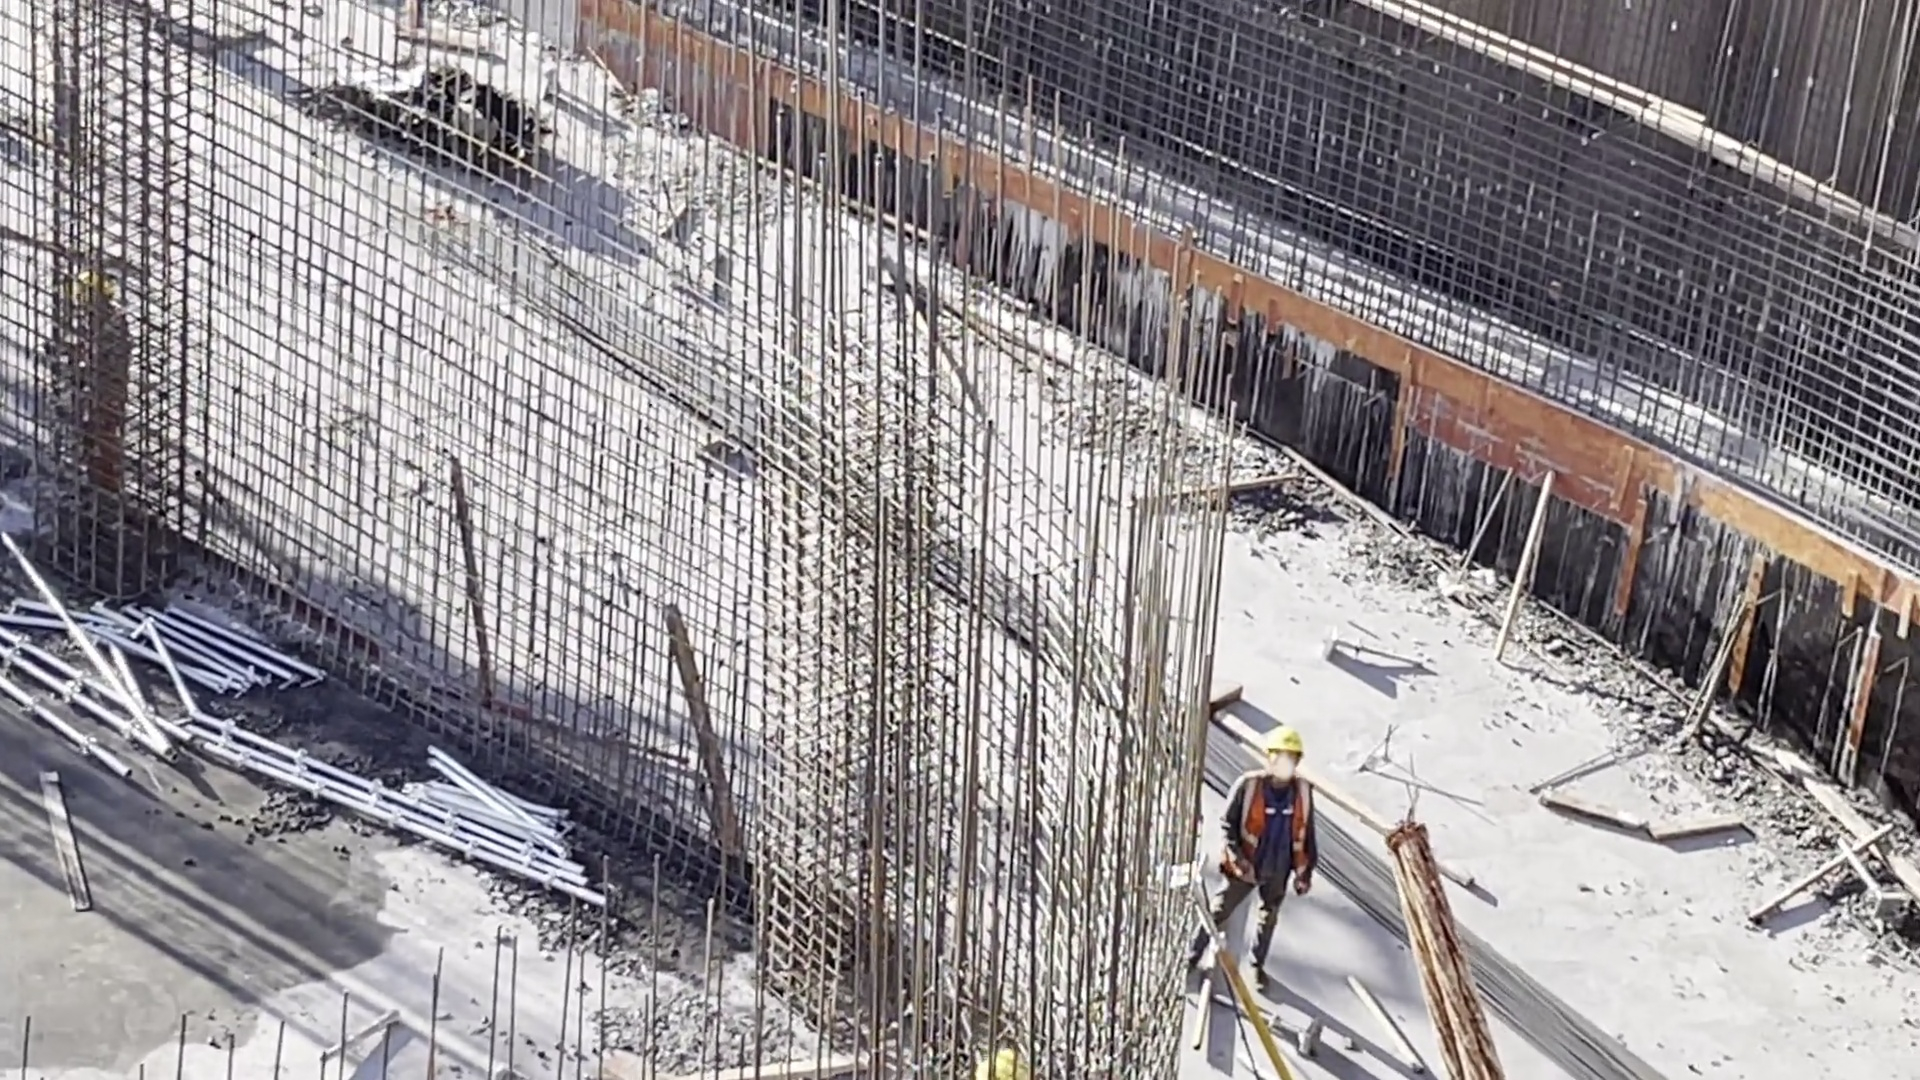helmet: (1258, 730, 1312, 787)
person: (1206, 720, 1326, 997)
rebar: (1237, 764, 1702, 1080)
scaffold: (396, 768, 621, 927), (121, 602, 295, 722)
vest: (1233, 787, 1317, 910)
